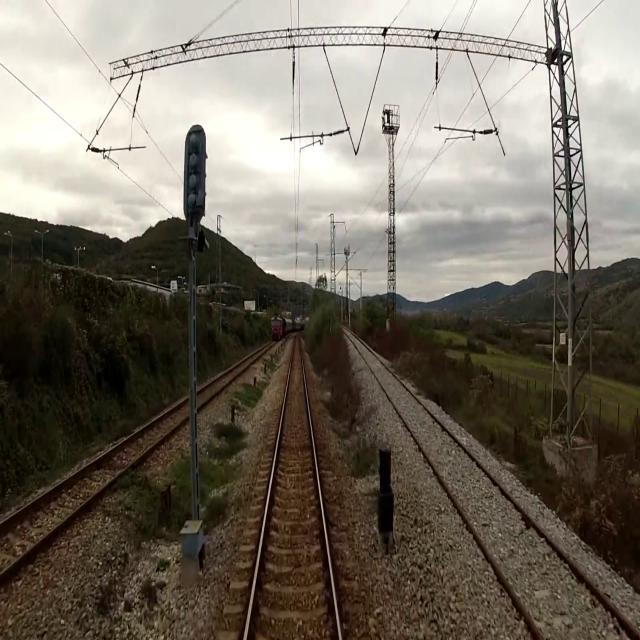rail-track: (350, 334, 634, 639), (0, 400, 189, 569), (247, 334, 337, 639), (199, 356, 254, 402)
